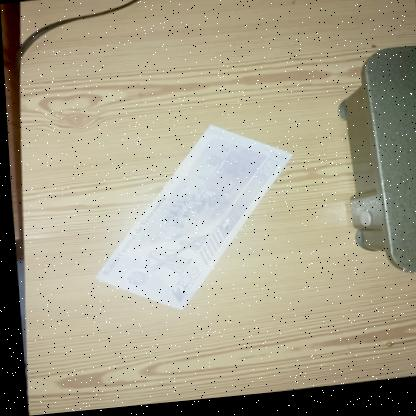two_hundred-back-vef: (82, 119, 299, 322)
